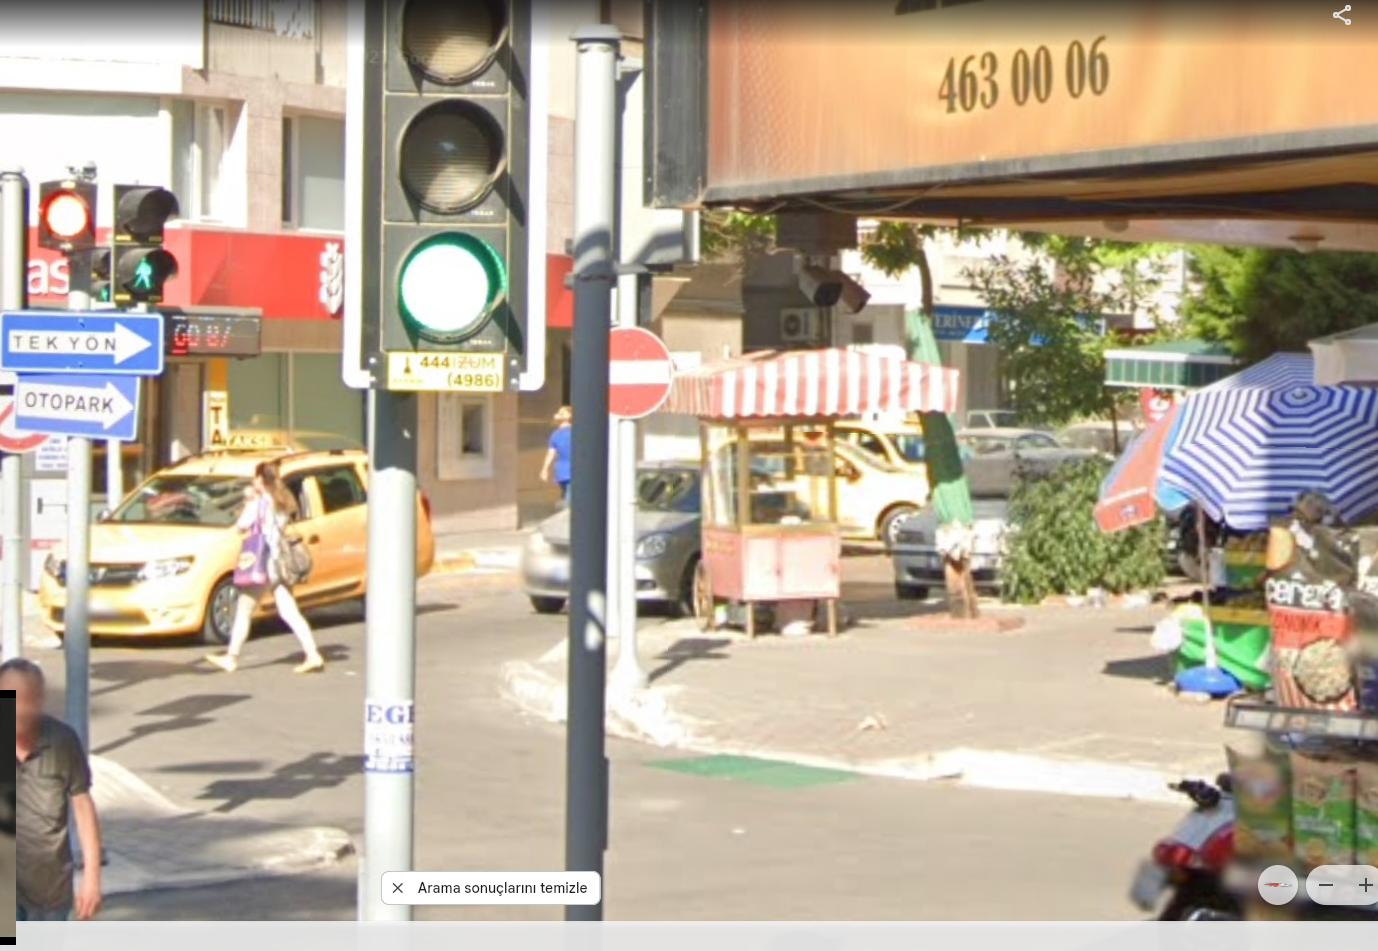greenlight: (379, 13, 537, 368)
